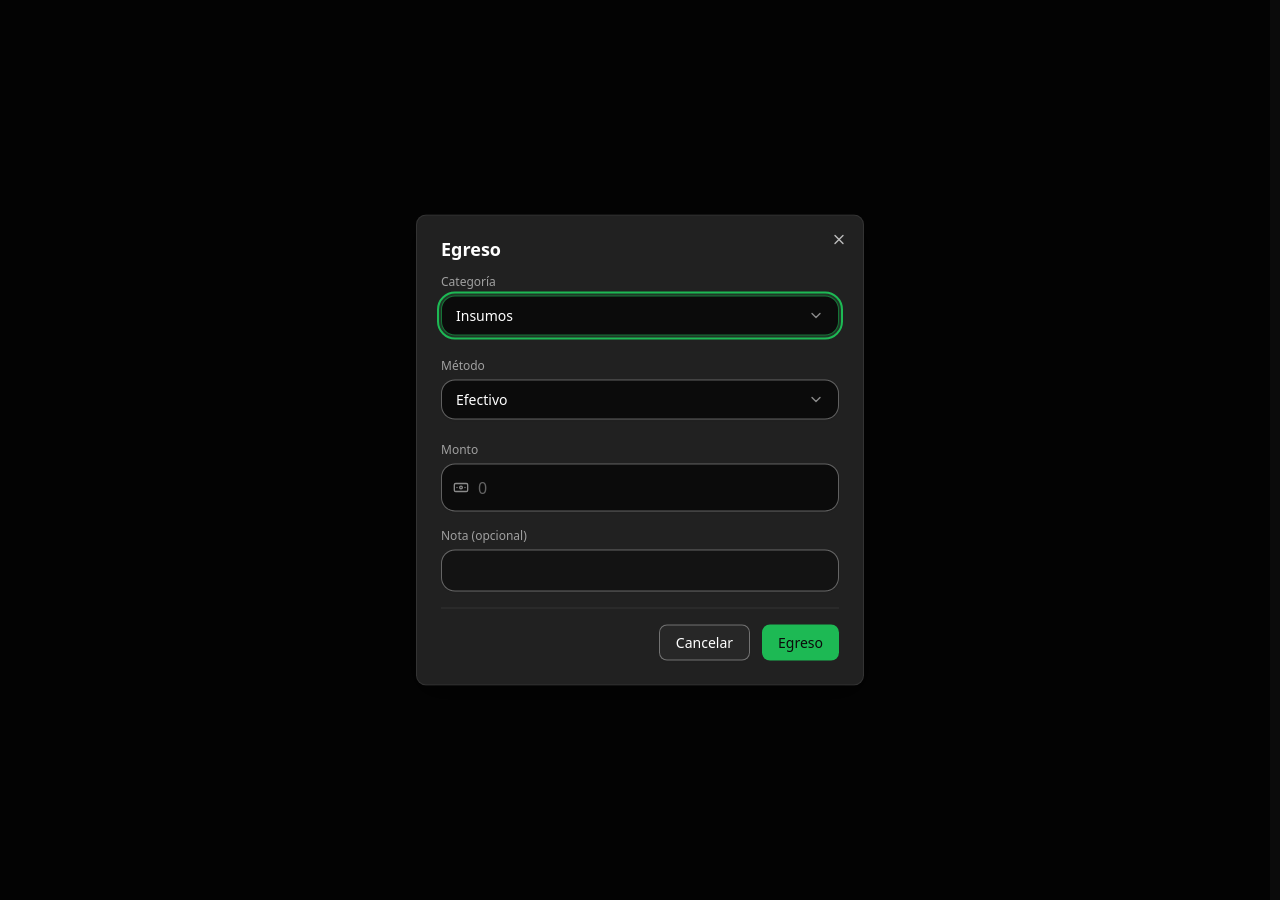
MovementFormDialog › rejects submitting with no amount typed
Click the button "Egreso": click(800, 642) [762,624,839,660]
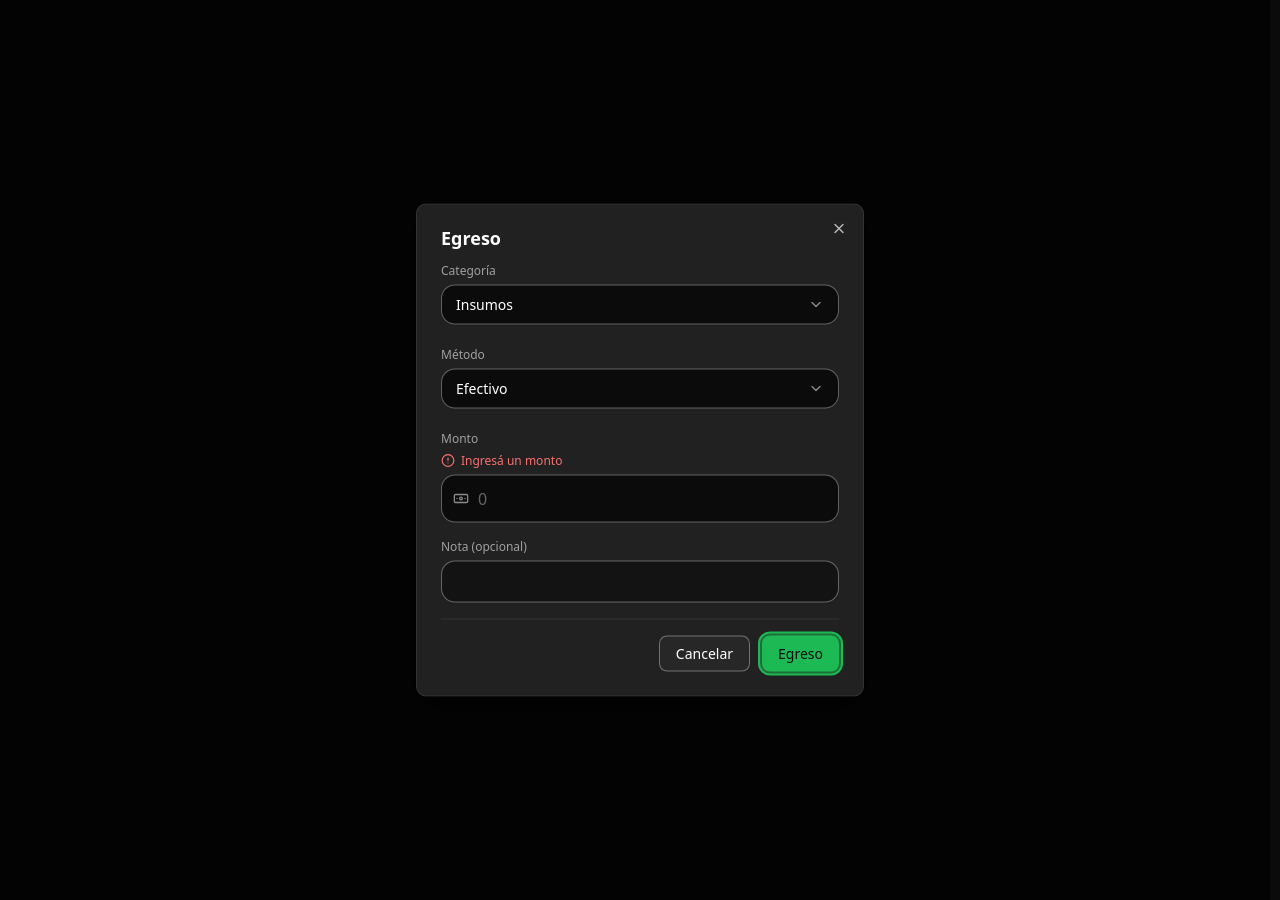
Result: the text "Ingresá un monto" is shown at [441,452,562,468]
